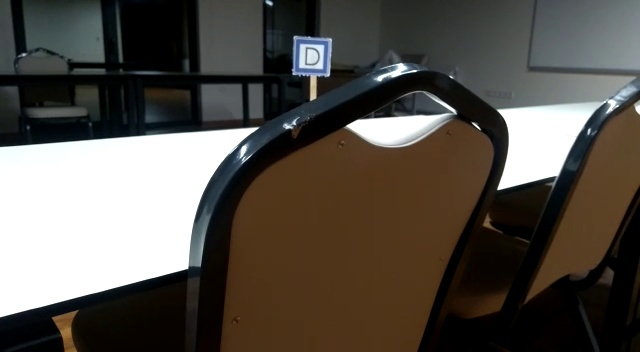durak: (291, 34, 333, 75)
